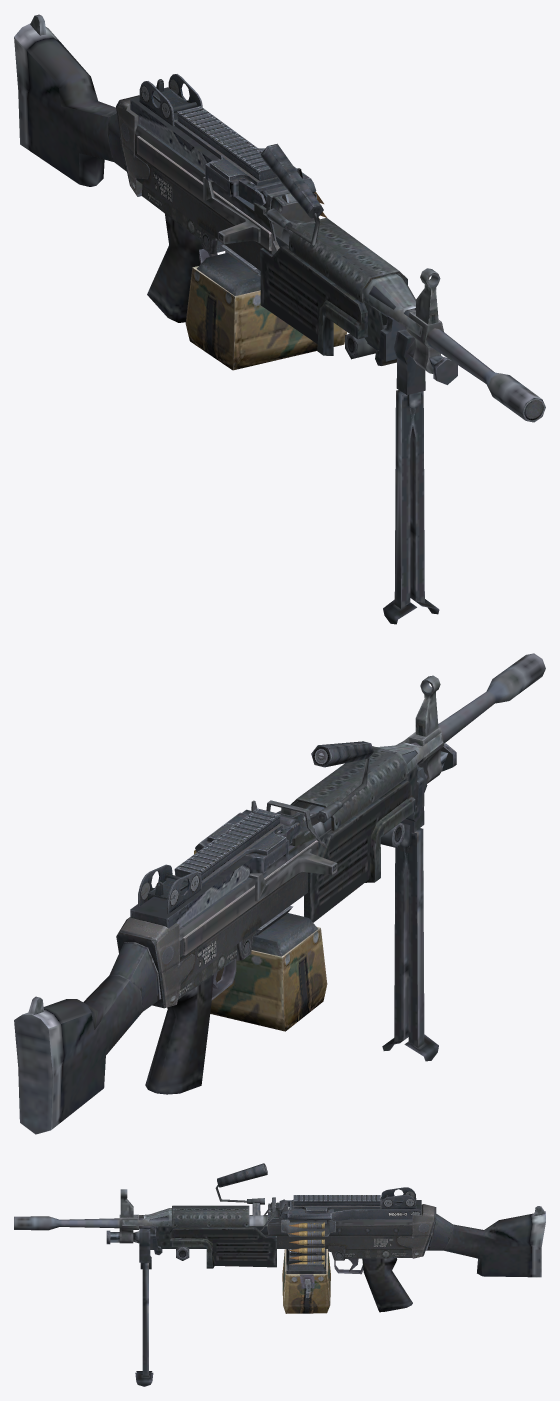
The model's file is SMG_cfq_01_Body_Main_(000776).glb.
3 renders of one model, top to bottom at view 1: azimuth 30°, elevation 25°; view 2: azimuth 150°, elevation 25°; view 3: azimuth 270°, elevation 25°, orthographic. The views are drawn at different scales.
Parts seen in each view (by area): view 1: cfq_01; view 2: cfq_01; view 3: cfq_01.
Part boxes in pixels (x1,y1,x2,y2): cfq_01: (14, 14, 545, 624); cfq_01: (14, 653, 545, 1134); cfq_01: (14, 1163, 545, 1386).
Bounding box in the file's own units: 0.2049 × 0.6245 × 1.43.
Materials: 1 (1 with a texture image).
